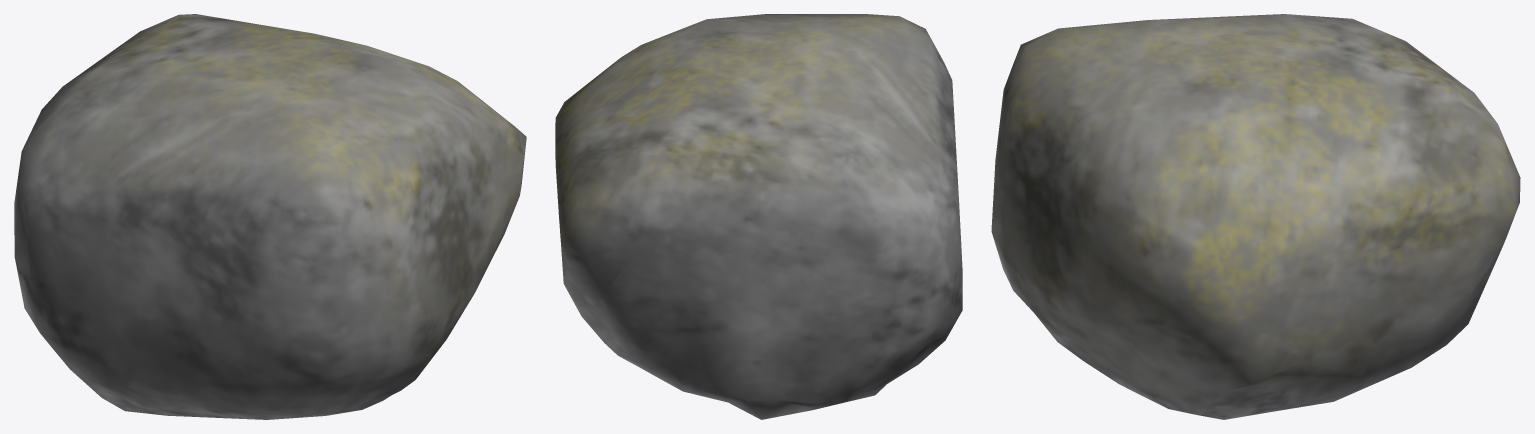
Rendered from rock6.fbx.
3 views of the same model, side by side, from view 1: azimuth 30°, elevation 25°; view 2: azimuth 150°, elevation 25°; view 3: azimuth 270°, elevation 25° (orthographic). The views are drawn at different scales.
Parts seen in each view (by area): view 1: kamenmaly1_lp.001; view 2: kamenmaly1_lp.001; view 3: kamenmaly1_lp.001.
Part boxes in pixels (<box>): kamenmaly1_lp.001: <box>14,14,526,419</box>; kamenmaly1_lp.001: <box>555,14,962,419</box>; kamenmaly1_lp.001: <box>991,14,1520,419</box>.
Size of the model in its own units: 42.03 by 28.68 by 41.51.
